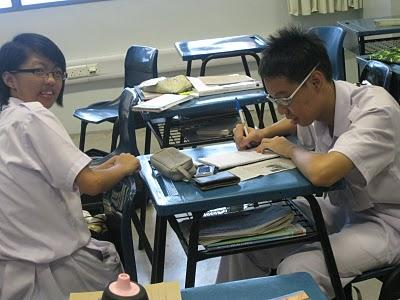person: (227, 33, 400, 296)
